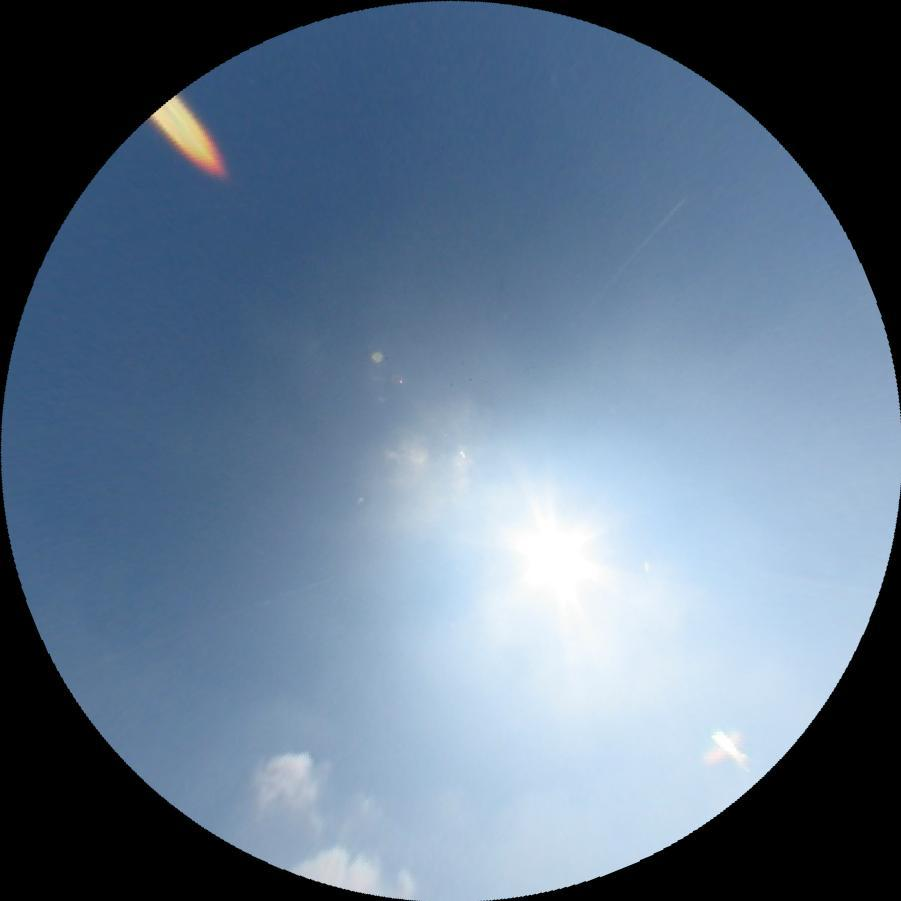contrail young: (577, 198, 683, 316)
sun: (521, 519, 597, 597)
